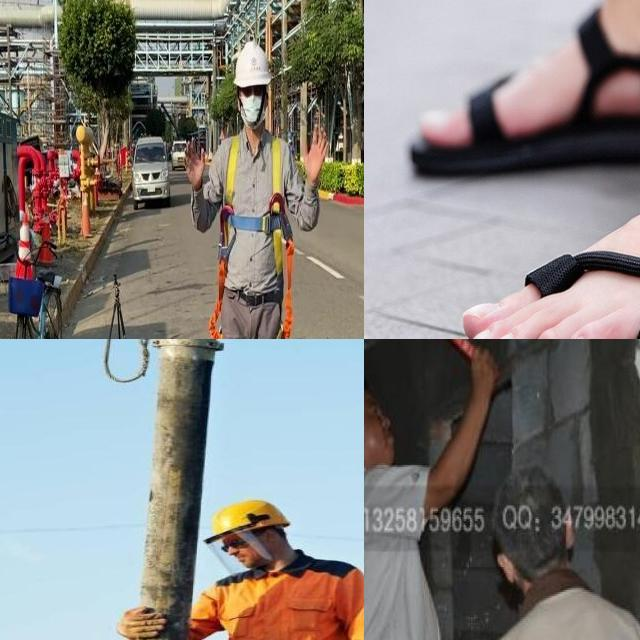Harness: (209, 136, 295, 339), (243, 288, 283, 306)
Sandals: (453, 102, 640, 339)
face_nomask: (364, 394, 402, 456)
glasses: (214, 535, 264, 558)
hand_glove: (117, 605, 166, 640)
hand_noglove: (464, 339, 504, 399)
head_helmet: (209, 497, 293, 541)
head_nohelmet: (489, 469, 562, 538), (364, 376, 376, 428)
person: (364, 367, 474, 640), (476, 460, 640, 640), (175, 487, 364, 640)
